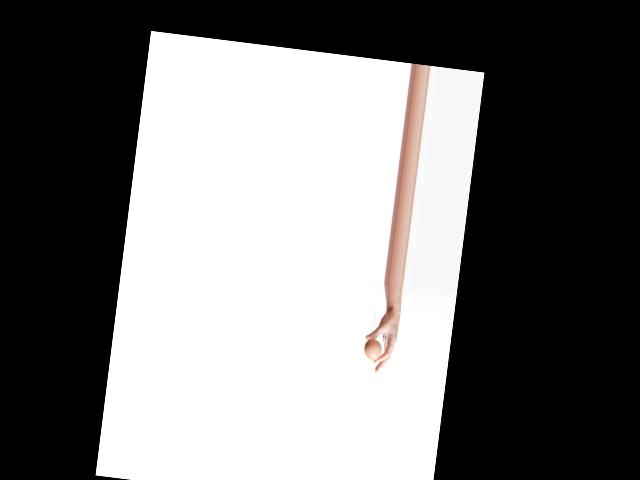egg: (362, 337, 382, 360)
